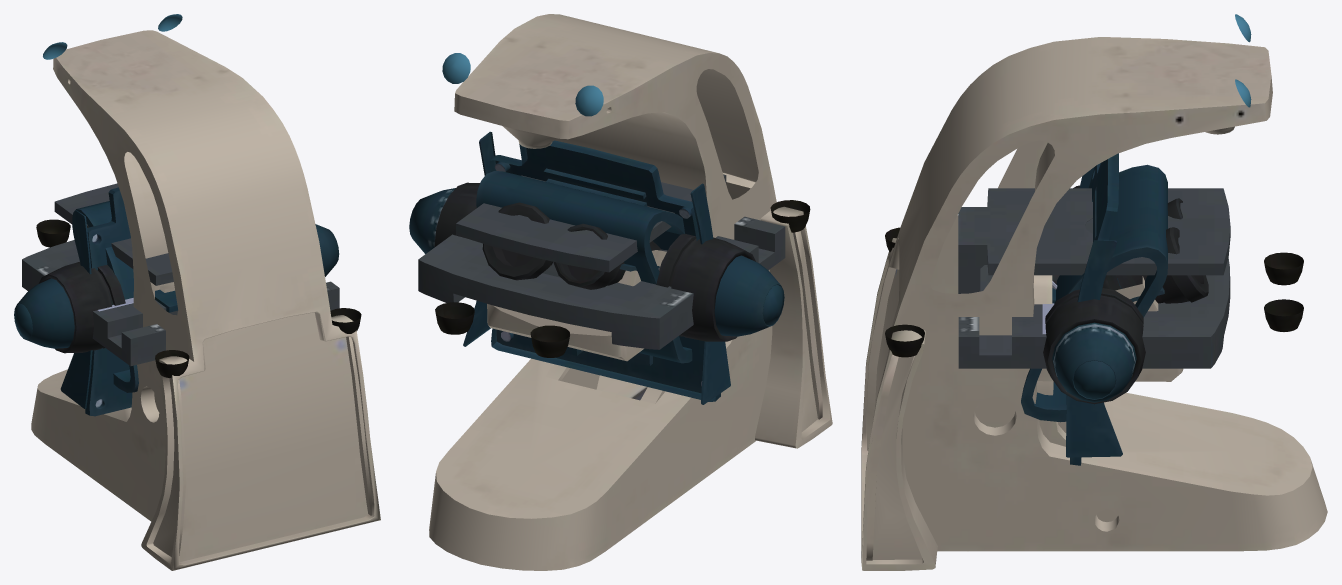
File: microscope.mobile.glb
The picture shows the model from 3 angles, left to right: view 1: azimuth 30°, elevation 25°; view 2: azimuth 150°, elevation 25°; view 3: azimuth 270°, elevation 25°; orthographic projection. The views are drawn at different scales.
Visible parts, largest first — view 1: MicroscopeBase_LowPoly__0, Platform_LowPoly__0, FineAdjustment_LowPoly__0, BackPanel_LowPoly__0, CoarseAdjustment_LowPoly__0, MechanicalStage_LowPoly__0, Handle_LowPoly__0, MicroscopeLegs_LowPoly__0, SidePanel_LowPoly__0, Lens_LowPoly__0; view 2: MicroscopeBase_LowPoly__0, Platform_LowPoly__0, BackPanel_LowPoly__0, Handle_LowPoly__0, MechanicalStage_LowPoly__0, CoarseAdjustment_LowPoly__0, FineAdjustment_LowPoly__0, SidePanel_LowPoly__0, BinocularRotationalHead_LowPoly__0, MicroscopeLegs_LowPoly__0, Binocular1_LowPoly__0, Binocular2_LowPoly__0 (+1 smaller); view 3: MicroscopeBase_LowPoly__0, MechanicalStage_LowPoly__0, Platform_LowPoly__0, Handle_LowPoly__0, FineAdjustment_LowPoly__0, CoarseAdjustment_LowPoly__0, SidePanel_LowPoly__0, MicroscopeLegs_LowPoly__0, Binocular1_LowPoly__0, BackPanel_LowPoly__0, BinocularRotationalHead_LowPoly__0.
Part boxes in pixels (box(x1,y1,x2,y2)): MicroscopeBase_LowPoly__0: box(31, 30, 380, 570); Platform_LowPoly__0: box(22, 240, 339, 366); FineAdjustment_LowPoly__0: box(14, 224, 339, 348); BackPanel_LowPoly__0: box(85, 187, 132, 416); CoarseAdjustment_LowPoly__0: box(38, 261, 125, 353); MechanicalStage_LowPoly__0: box(54, 183, 173, 285); Handle_LowPoly__0: box(72, 201, 138, 392); MicroscopeLegs_LowPoly__0: box(36, 219, 361, 378); SidePanel_LowPoly__0: box(60, 210, 92, 408); Lens_LowPoly__0: box(43, 14, 182, 59); MicroscopeBase_LowPoly__0: box(429, 14, 832, 570); Platform_LowPoly__0: box(418, 216, 785, 349); BackPanel_LowPoly__0: box(489, 140, 720, 401); Handle_LowPoly__0: box(476, 171, 692, 363); MechanicalStage_LowPoly__0: box(456, 174, 726, 272); CoarseAdjustment_LowPoly__0: box(434, 182, 755, 341); FineAdjustment_LowPoly__0: box(409, 188, 784, 336); SidePanel_LowPoly__0: box(463, 131, 730, 404); BinocularRotationalHead_LowPoly__0: box(487, 250, 666, 361); MicroscopeLegs_LowPoly__0: box(435, 200, 810, 357); Binocular1_LowPoly__0: box(482, 202, 552, 280); Binocular2_LowPoly__0: box(553, 223, 661, 289); MicroscopeBase_LowPoly__0: box(861, 37, 1327, 570); MechanicalStage_LowPoly__0: box(958, 188, 1230, 293); Platform_LowPoly__0: box(958, 258, 1230, 368); Handle_LowPoly__0: box(1021, 164, 1167, 422); FineAdjustment_LowPoly__0: box(1052, 322, 1136, 402); CoarseAdjustment_LowPoly__0: box(1043, 185, 1145, 404); SidePanel_LowPoly__0: box(1066, 167, 1122, 457); MicroscopeLegs_LowPoly__0: box(885, 227, 1303, 357); Binocular1_LowPoly__0: box(1102, 227, 1208, 303); BackPanel_LowPoly__0: box(1070, 153, 1118, 465); BinocularRotationalHead_LowPoly__0: box(1037, 276, 1183, 381).
Bounding box in the file's own units: 997081 × 1274470 × 1098516.
1 material, 1 textured.
